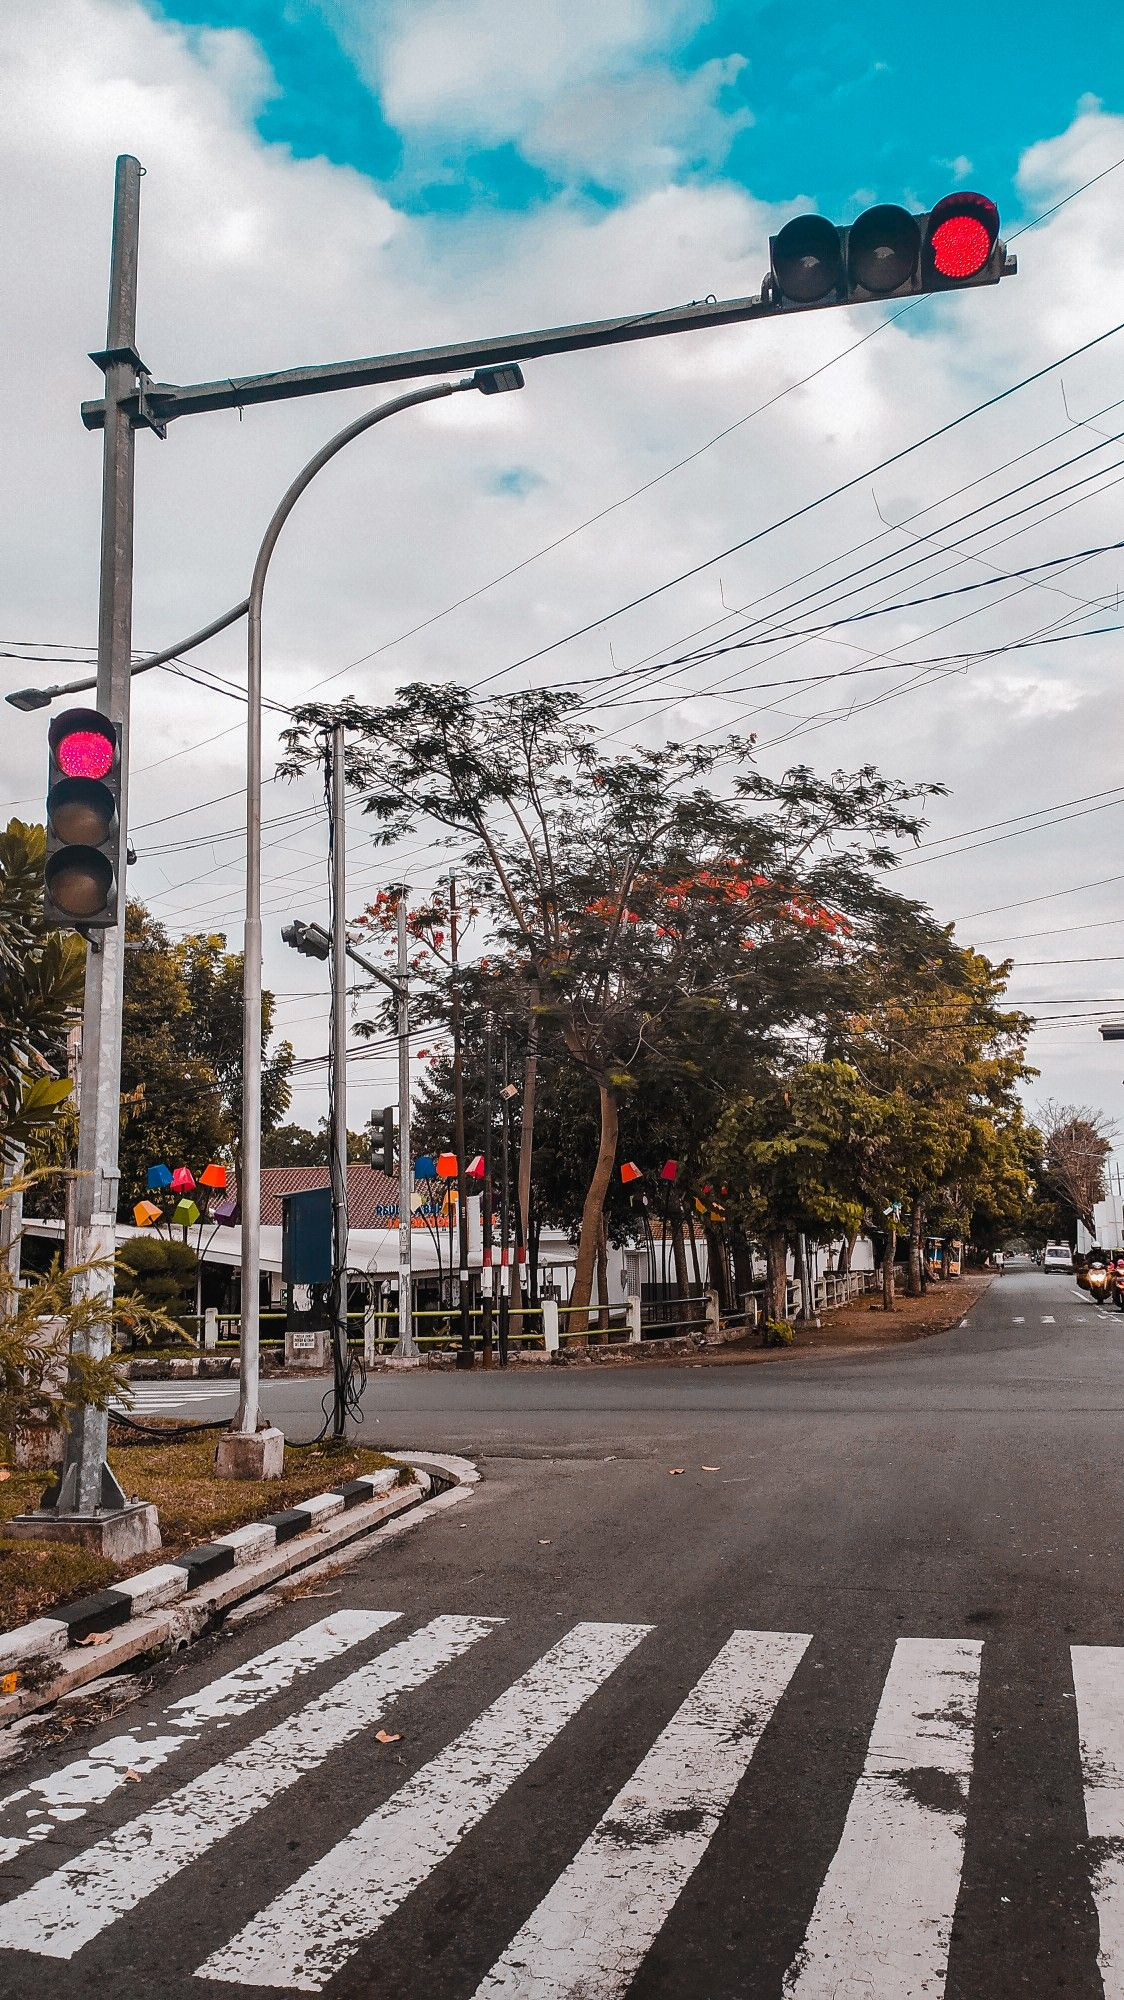trafficlight: (758, 207, 1037, 304), (32, 712, 137, 955)
zebracross: (12, 1599, 1124, 2000)
